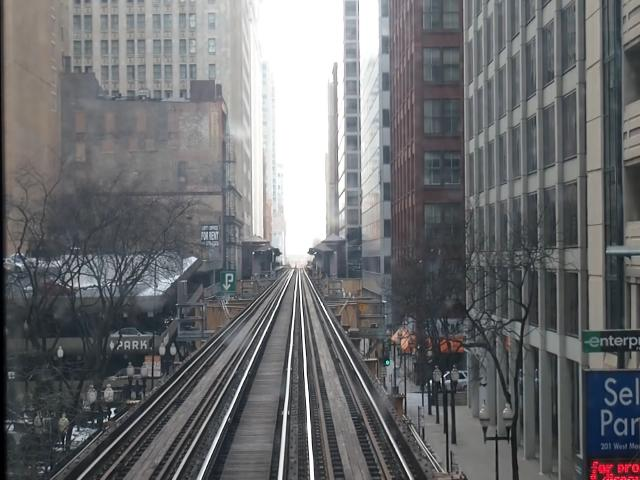signal light: (385, 359, 393, 369)
